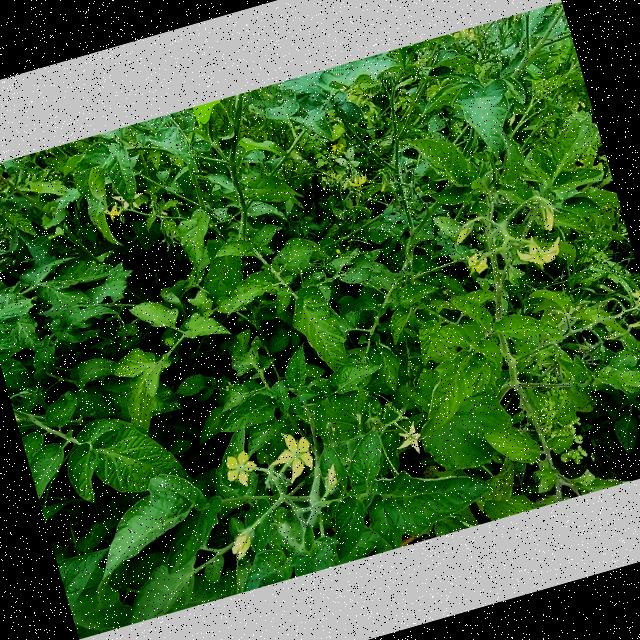Flowers: (259, 424, 319, 487), (511, 227, 567, 277), (221, 448, 261, 491), (223, 524, 263, 566), (392, 418, 426, 458), (532, 192, 562, 234), (462, 248, 492, 277), (449, 222, 478, 248), (341, 168, 371, 192), (452, 27, 477, 46), (322, 463, 340, 487), (320, 168, 344, 184), (104, 204, 124, 222), (329, 142, 346, 156), (572, 99, 586, 112)
